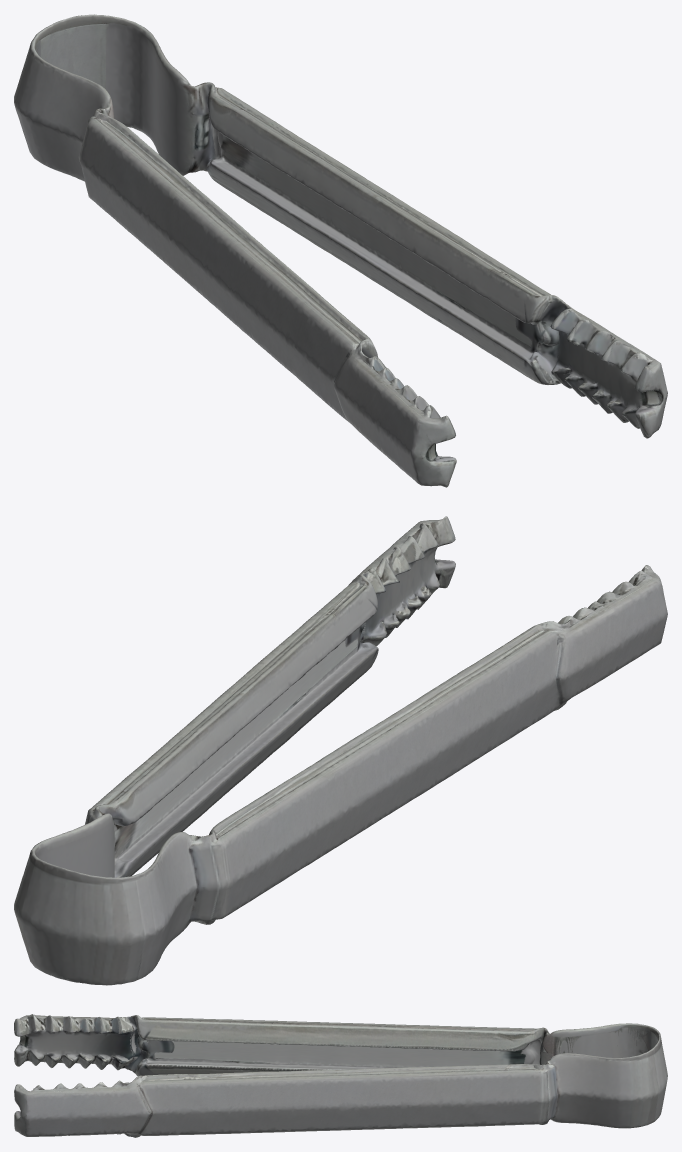
Rendered from Tongs.fbx.
The picture shows the model from 3 angles, top to bottom: view 1: azimuth 30°, elevation 25°; view 2: azimuth 150°, elevation 25°; view 3: azimuth 270°, elevation 25°; orthographic projection. The views are drawn at different scales.
Visible parts, largest first — view 1: texture_mapping; view 2: texture_mapping; view 3: texture_mapping.
Boxes of the visible parts, x1,y1,x2,y2 form: texture_mapping: (14,14,667,487); texture_mapping: (14,516,667,985); texture_mapping: (14,1014,667,1137).
Bounding box in the file's own units: 0.3023 × 0.9981 × 0.126.
1 material, 1 textured.
